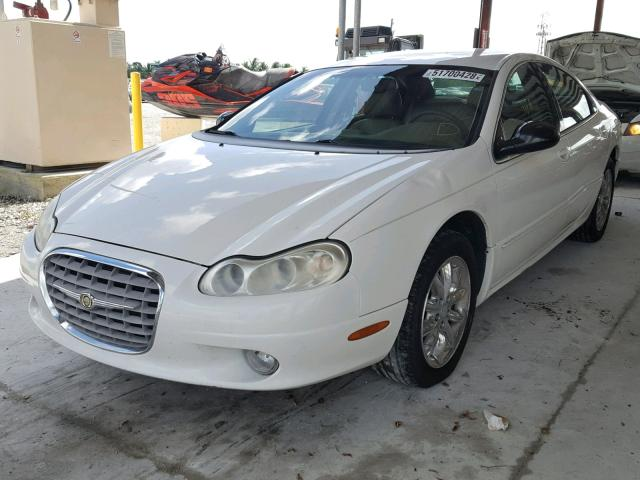car: (13, 45, 625, 398)
